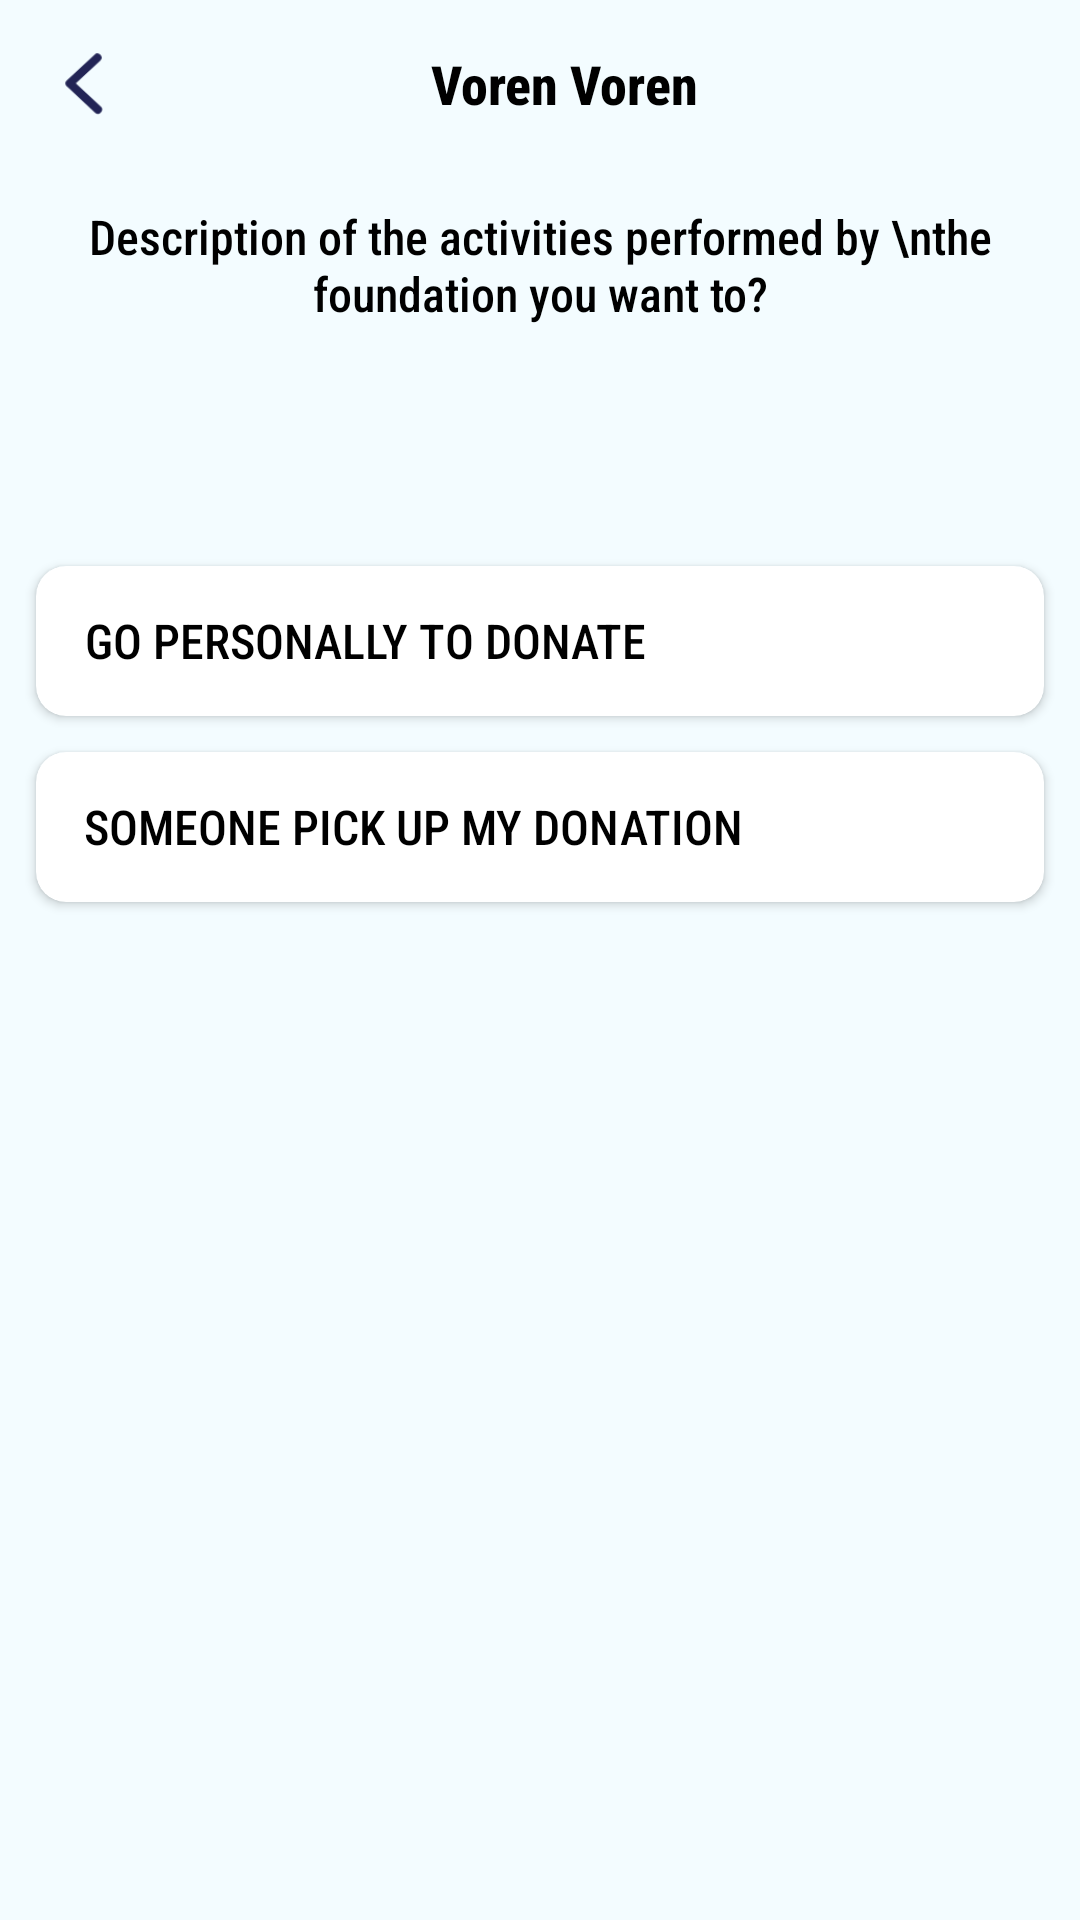

Where to tap for icons on this 1080×1920 app screen, as (x=x, y=y):
back: (x=84, y=84)
